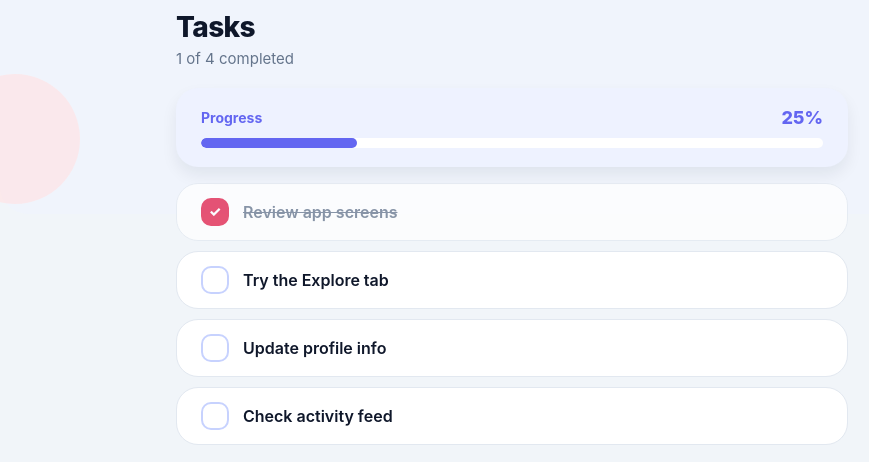
Scenario: TasksScreen › toggles a task from not done to done and updates the count
The width and height of the screenshot is (869, 462).
Click the button "Try the Explore tab" at (512, 280), box [176,251,848,309]
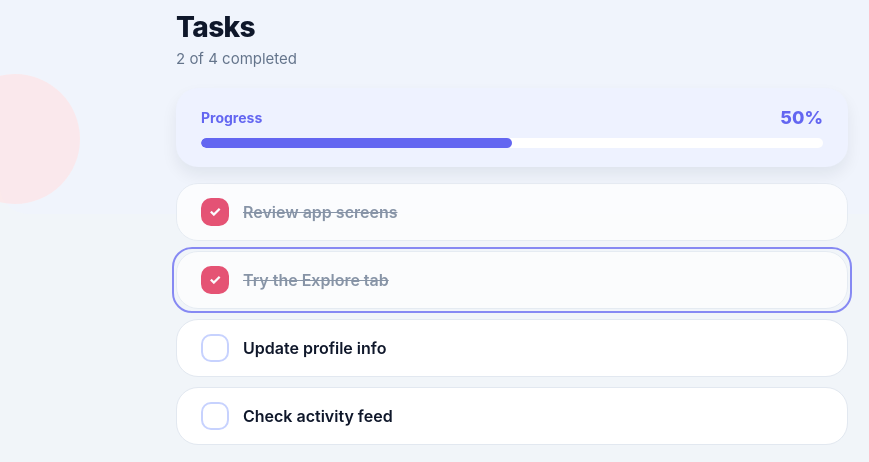
Expected: the text "2 of 4 completed" is shown, [176,49,297,68]
